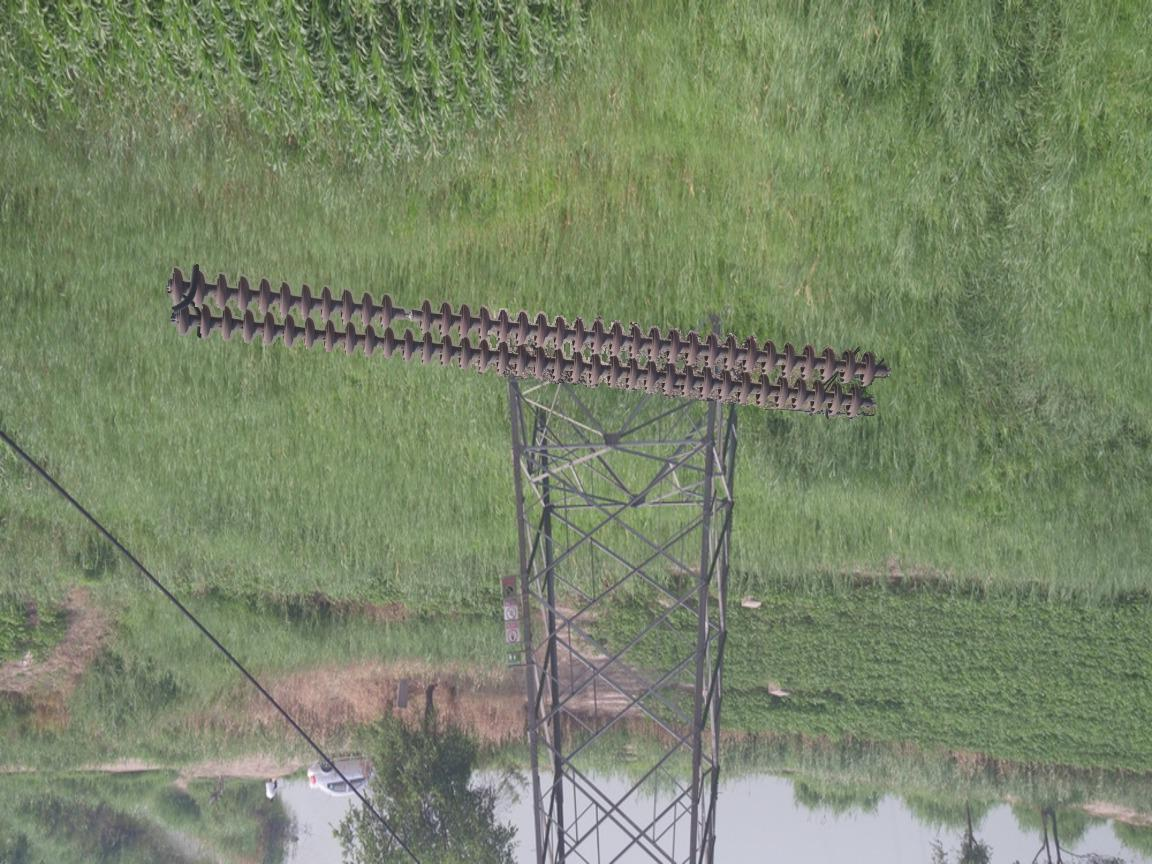insulator: (166, 259, 891, 423)
insulator_stringdrop: (377, 291, 434, 336)
